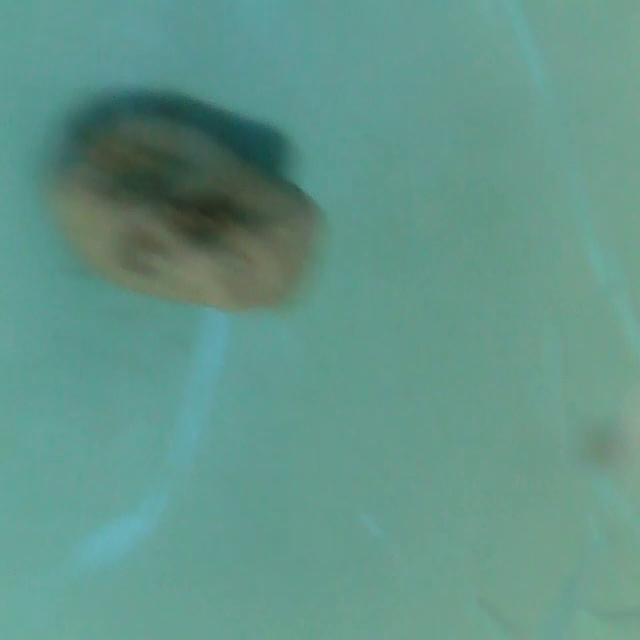rock: (53, 107, 327, 326)
